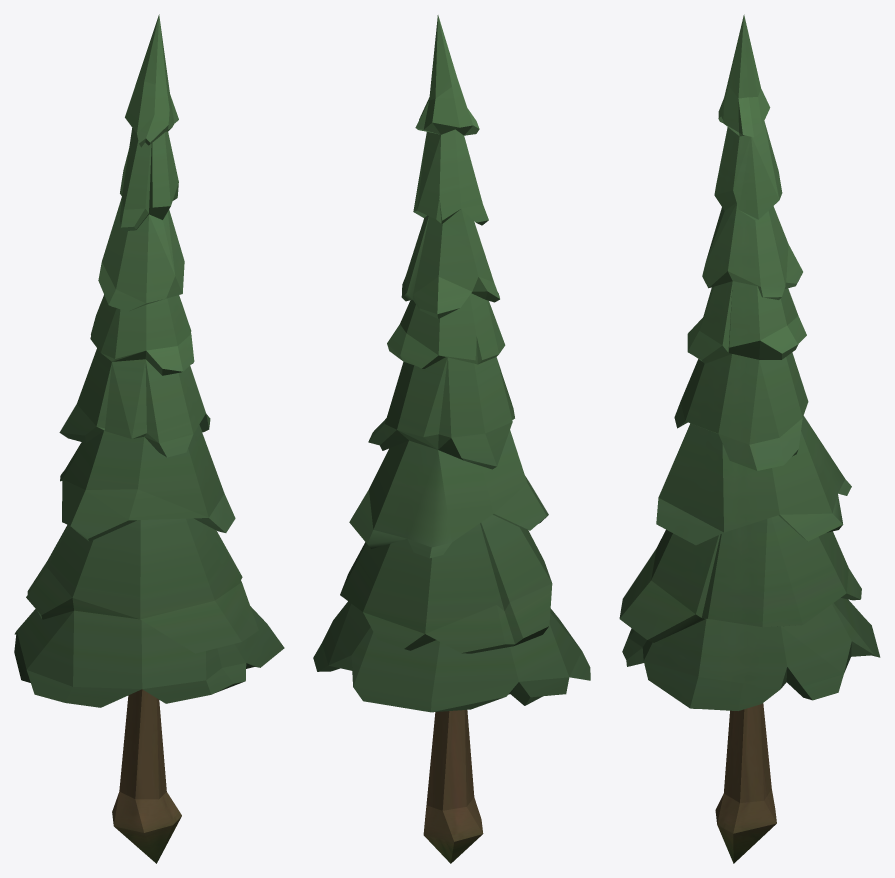
File: TER_TreePineMed.glb
3 renders of one model, left to right at view 1: azimuth 30°, elevation 25°; view 2: azimuth 150°, elevation 25°; view 3: azimuth 270°, elevation 25°, orthographic.
Visible parts, largest first — view 1: TER_TreePineMed; view 2: TER_TreePineMed; view 3: TER_TreePineMed.
Part boxes in pixels (x1=…): TER_TreePineMed: x1=14, y1=14, x2=284, y2=863; TER_TreePineMed: x1=313, y1=15, x2=590, y2=863; TER_TreePineMed: x1=619, y1=14, x2=880, y2=863.
Bounding box in the file's own units: 5.94 × 19.76 × 5.47.
1 material, 1 textured.
